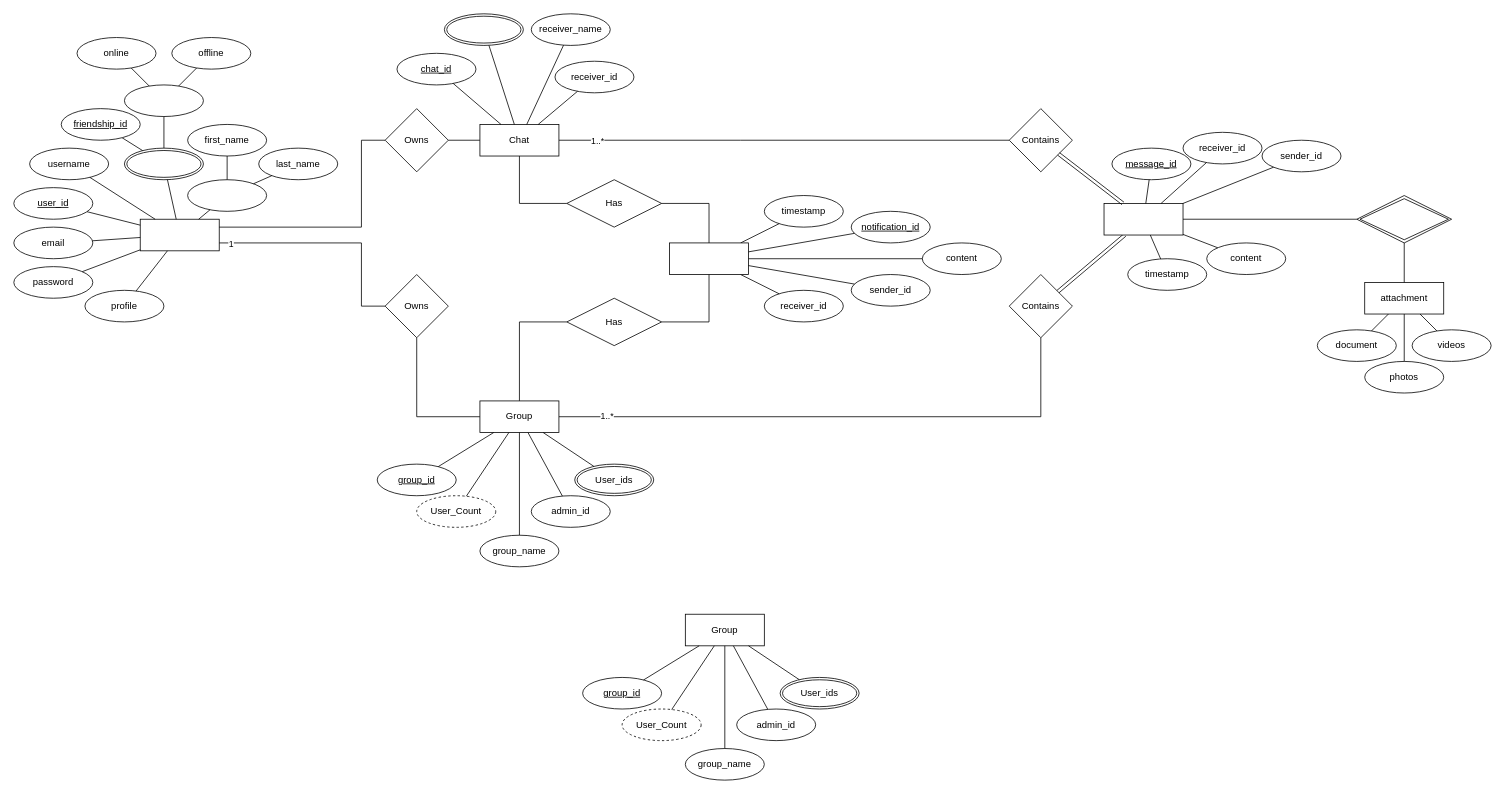
Image size: 1505x794. Some labels were removed from this diagram. The centre of each missing label's shape, as x and y in pixels:
conversations_id: (483,29)
Friends: (163,163)
Have: (1404,219)
Message: (1143,219)
name: (227,195)
Notification: (709,258)
status: (163,100)
User: (179,234)
